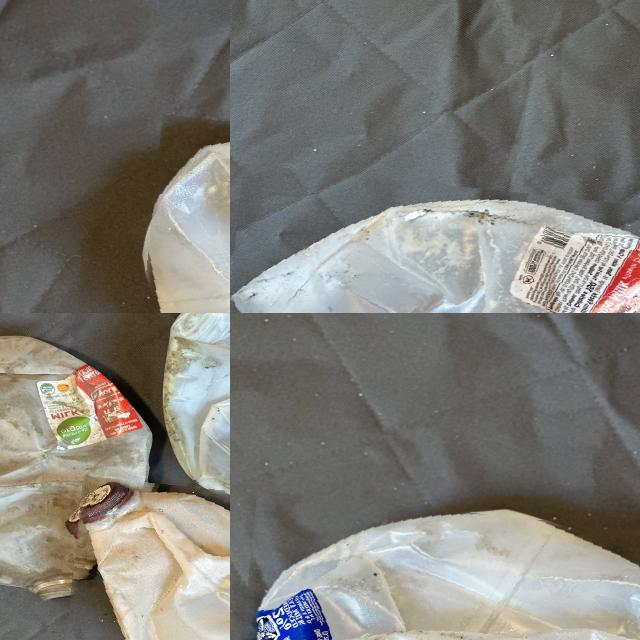milk-jug: (232, 502, 640, 640), (230, 177, 640, 313), (0, 331, 151, 607), (63, 483, 230, 640), (138, 127, 230, 313), (157, 313, 230, 537)
